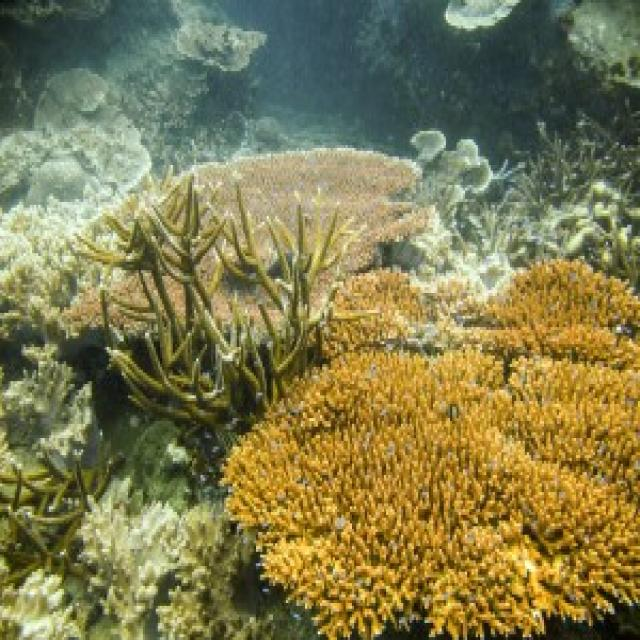Bleached: (82, 479, 180, 638), (1, 354, 103, 470), (1, 229, 80, 342), (411, 129, 492, 192)
Healthy: (227, 351, 639, 638), (84, 177, 347, 425), (195, 149, 426, 271), (466, 263, 639, 368), (511, 115, 639, 231), (159, 504, 248, 635), (332, 271, 451, 354), (1, 467, 86, 578)
